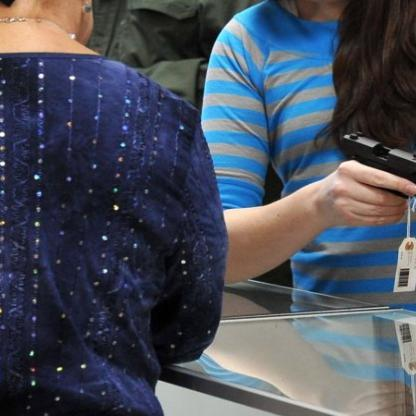gun: (336, 131, 415, 216)
